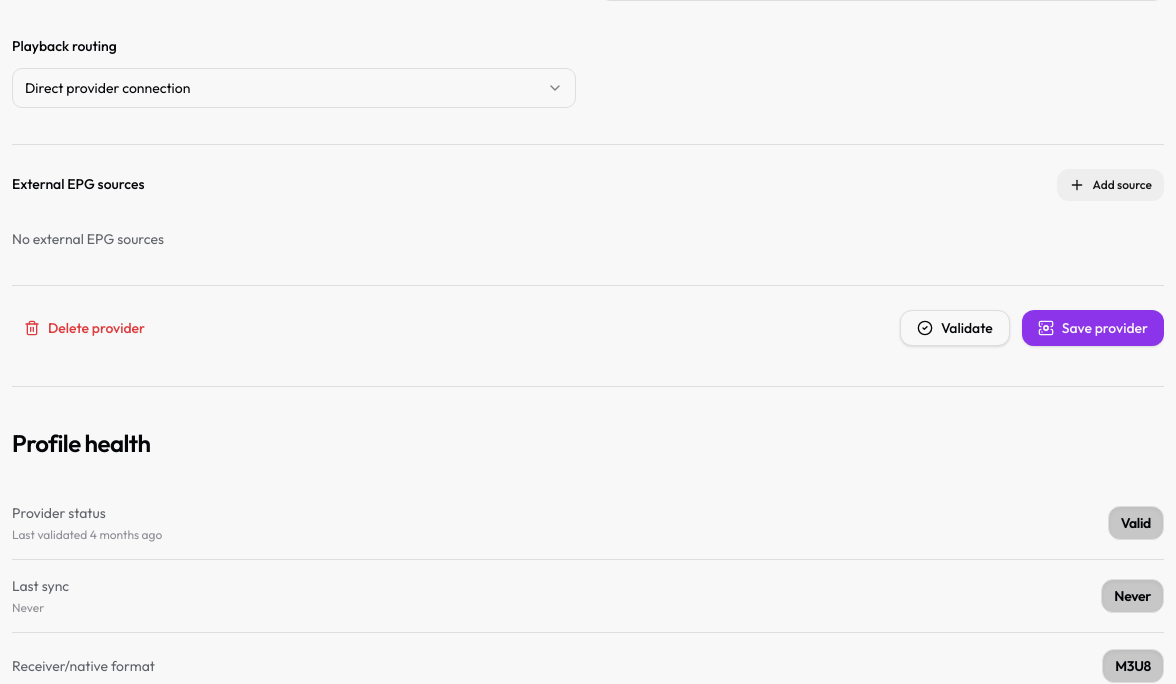
Test: SettingsPage › deletes the selected provider and falls back to another saved provider
(page scrolled)
Click the button "Delete provider" at (84, 328), box 12,310 -> 157,346
(page scrolled)
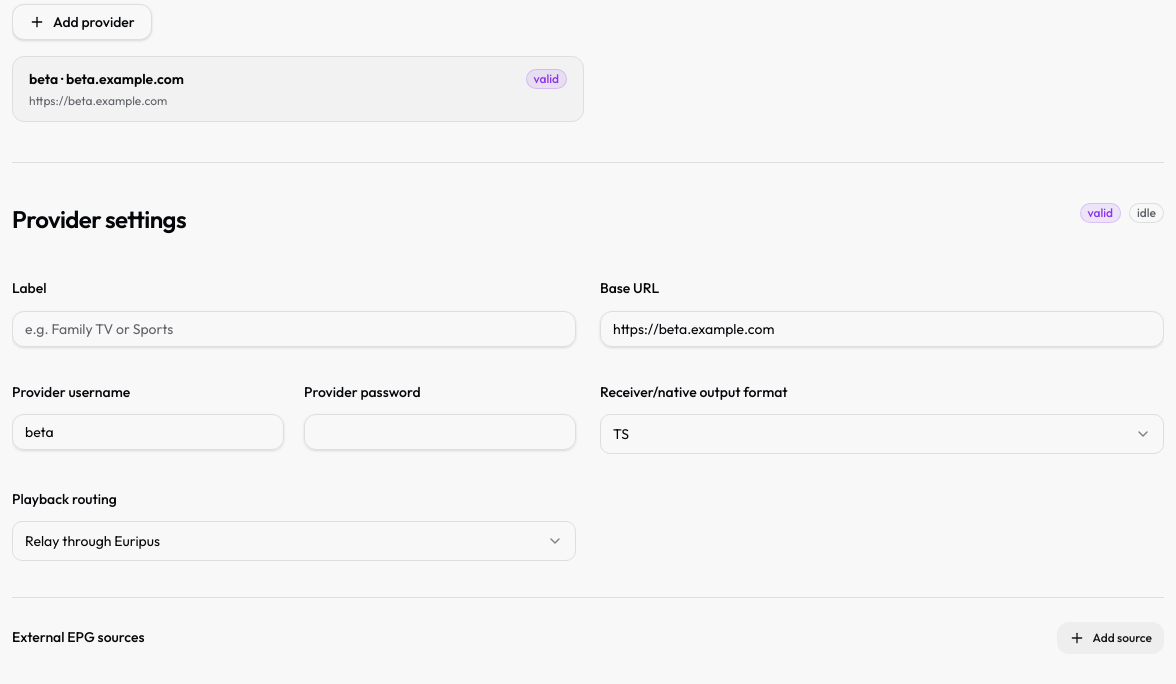
Now the field showing "https://beta.example.com" is shown, box 600,310 -> 1164,346
